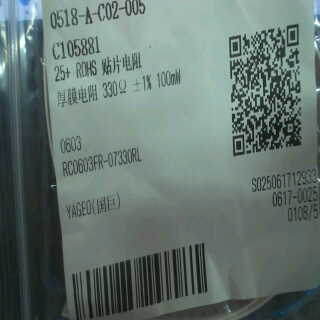330R: (102, 77, 129, 101)
